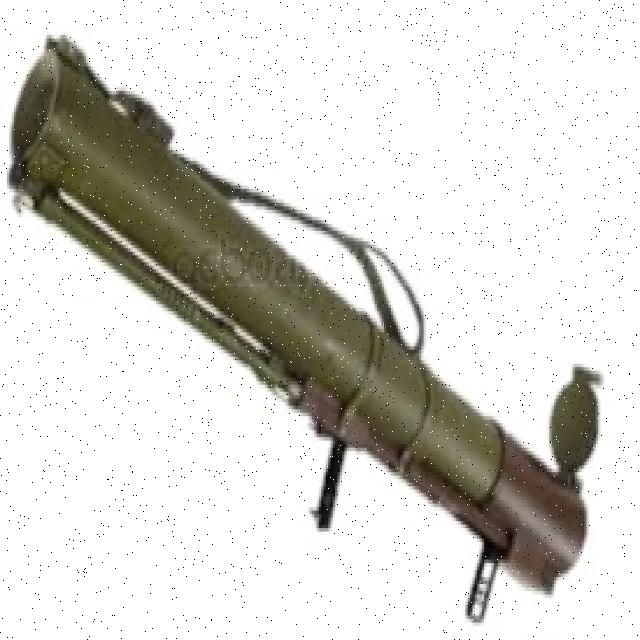bazooka: (6, 32, 605, 628)
